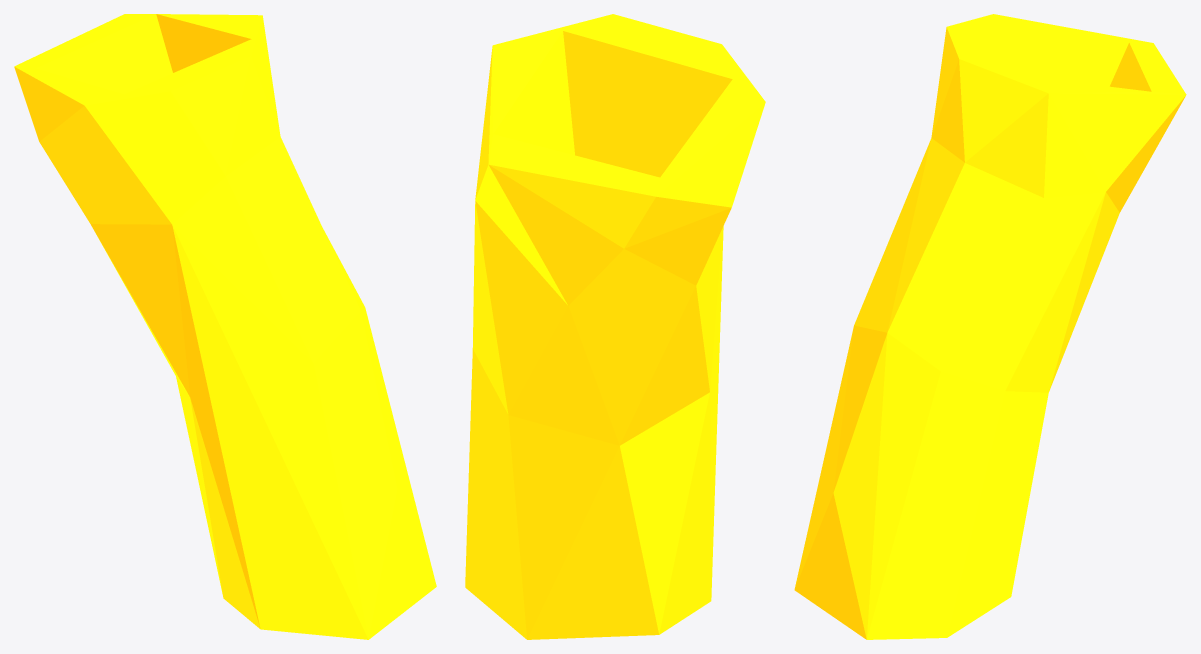
File: coral2.fbx
The picture shows the model from 3 angles, left to right: view 1: azimuth 30°, elevation 25°; view 2: azimuth 150°, elevation 25°; view 3: azimuth 270°, elevation 25°; orthographic projection. The views are drawn at different scales.
Parts seen in each view (by area): view 1: Corallo 2.007; view 2: Corallo 2.007; view 3: Corallo 2.007.
Boxes of the visible parts, x1,y1,x2,y2 form: Corallo 2.007: (14, 14, 436, 639); Corallo 2.007: (465, 14, 765, 639); Corallo 2.007: (794, 14, 1186, 639).
Bounding box in the file's own units: 36.57 × 62.78 × 43.26.
